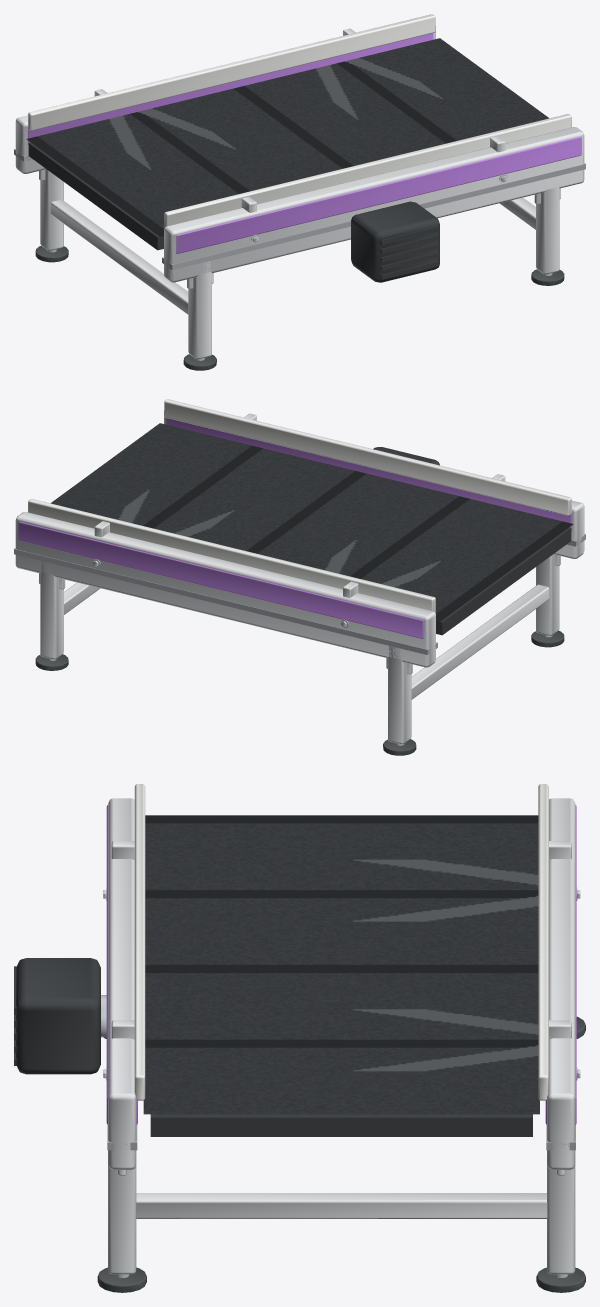
File: cinta_recta_mk3.glb
The picture shows the model from 3 angles, top to bottom: view 1: azimuth 30°, elevation 25°; view 2: azimuth 150°, elevation 25°; view 3: azimuth 270°, elevation 25°; orthographic projection. The views are drawn at different scales.
Visible parts, largest first — view 1: banda, bastidor-1, guia1, franja-1, guia-1, tapa_motor, travesano-0.42, franja1, bastidor-1_ranura, lecho, pata-1-0.42, pata-10.42 (+3 smaller); view 2: banda, bastidor1, guia-1, franja1, guia1, travesano-0.42, franja-1, bastidor1_ranura, lecho, pata1-0.42, pata10.42, pata-1-0.42 (+2 smaller); view 3: banda, travesano0.42, tapa_motor, bastidor1, bastidor-1, lecho, guia-1, guia1, pata-10.42, pata10.42, franja-1, pata-10.42_pie (+2 smaller).
Boxes of the visible parts, box(x1,y1,x2,y2) form: banda: box(26, 38, 548, 236); bastidor-1: box(164, 127, 584, 282); guia1: box(28, 14, 435, 130); franja-1: box(176, 136, 581, 253); guia-1: box(164, 114, 571, 227); tapa_motor: box(351, 201, 439, 282); travesano-0.42: box(50, 199, 188, 314); franja1: box(28, 33, 433, 145); bastidor-1_ranura: box(162, 163, 585, 269); lecho: box(28, 142, 163, 250); pata-1-0.42: box(188, 261, 211, 359); pata-10.42: box(536, 187, 559, 274); banda: box(51, 423, 573, 621); bastidor1: box(15, 512, 435, 667); guia-1: box(164, 399, 571, 515); franja1: box(18, 521, 423, 638); guia1: box(28, 499, 435, 612); travesano-0.42: box(411, 584, 549, 699); franja-1: box(166, 418, 571, 530); bastidor1_ranura: box(14, 548, 437, 654); lecho: box(436, 527, 571, 635); pata1-0.42: box(388, 646, 411, 744); pata10.42: box(40, 561, 63, 659); pata-1-0.42: box(536, 554, 559, 635); banda: box(143, 815, 539, 1114); travesano0.42: box(136, 1193, 547, 1218); tapa_motor: box(16, 958, 100, 1074); bastidor1: box(547, 798, 575, 1169); bastidor-1: box(108, 798, 136, 1169); lecho: box(150, 1114, 532, 1136); guia-1: box(134, 784, 145, 1100); guia1: box(538, 784, 548, 1100); pata-10.42: box(108, 1165, 136, 1274); pata10.42: box(547, 1165, 575, 1274); franja-1: box(106, 805, 137, 1124); pata-10.42_pie: box(97, 1267, 146, 1292).
Bounding box in the file's own units: 1 × 0.355 × 0.808.
Materials: 9 (1 with a texture image).
